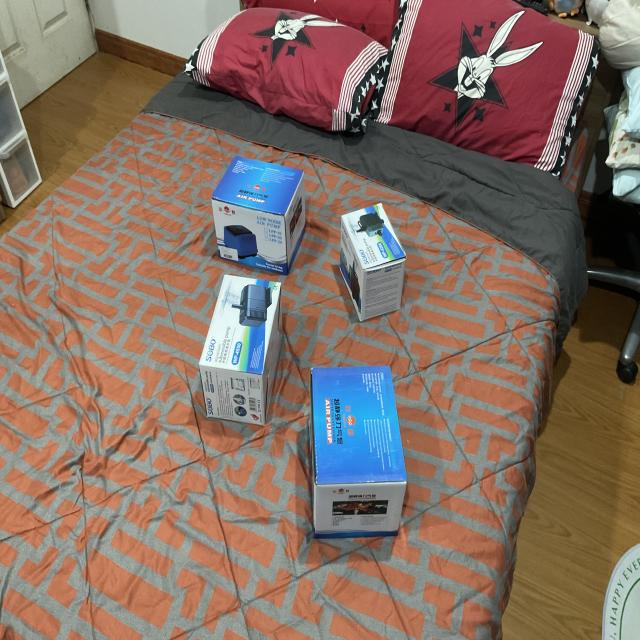SOBO_WP_4200: (188, 270, 288, 427), (332, 186, 419, 321)
YAMANO_LPP_20: (299, 356, 422, 554), (206, 137, 315, 280)
